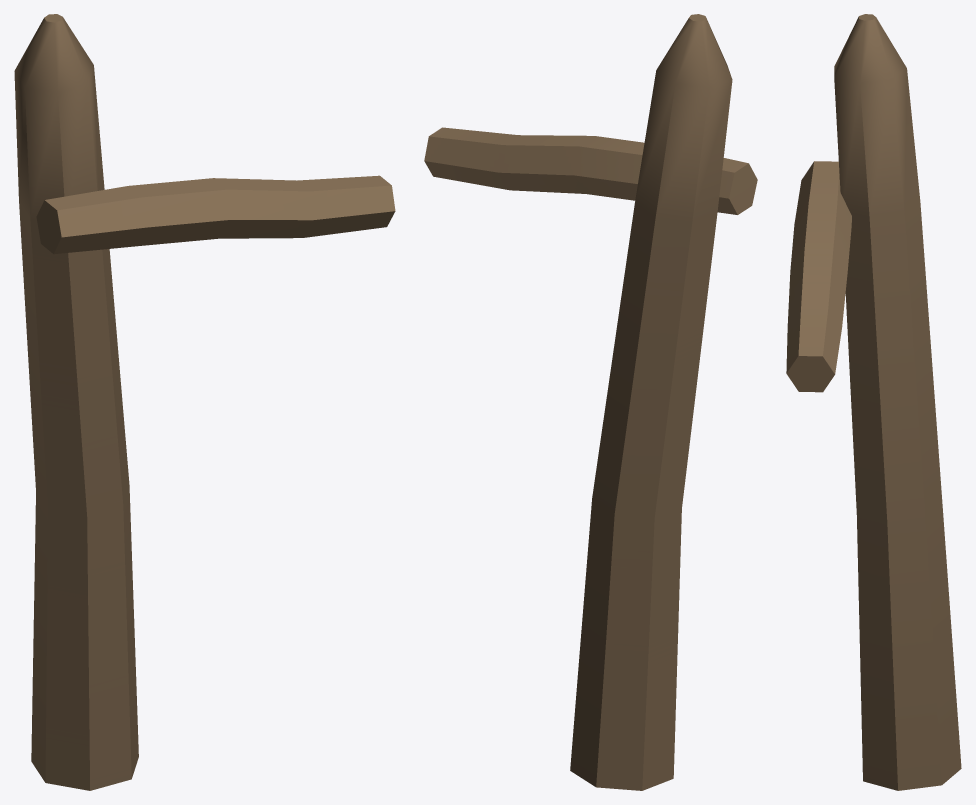
The model's file is rustic-post.glb.
3 views of the same model, side by side, from view 1: azimuth 30°, elevation 25°; view 2: azimuth 150°, elevation 25°; view 3: azimuth 270°, elevation 25° (orthographic). The views are drawn at different scales.
Visible parts, largest first — view 1: rustic-post; view 2: rustic-post; view 3: rustic-post.
Part boxes in pixels (left/top/right/bottom): rustic-post: left=14, top=14, right=395, bottom=790; rustic-post: left=424, top=14, right=757, bottom=790; rustic-post: left=786, top=14, right=961, bottom=790.
Size of the model in its own units: 0.4422 by 0.9839 by 0.2136.
